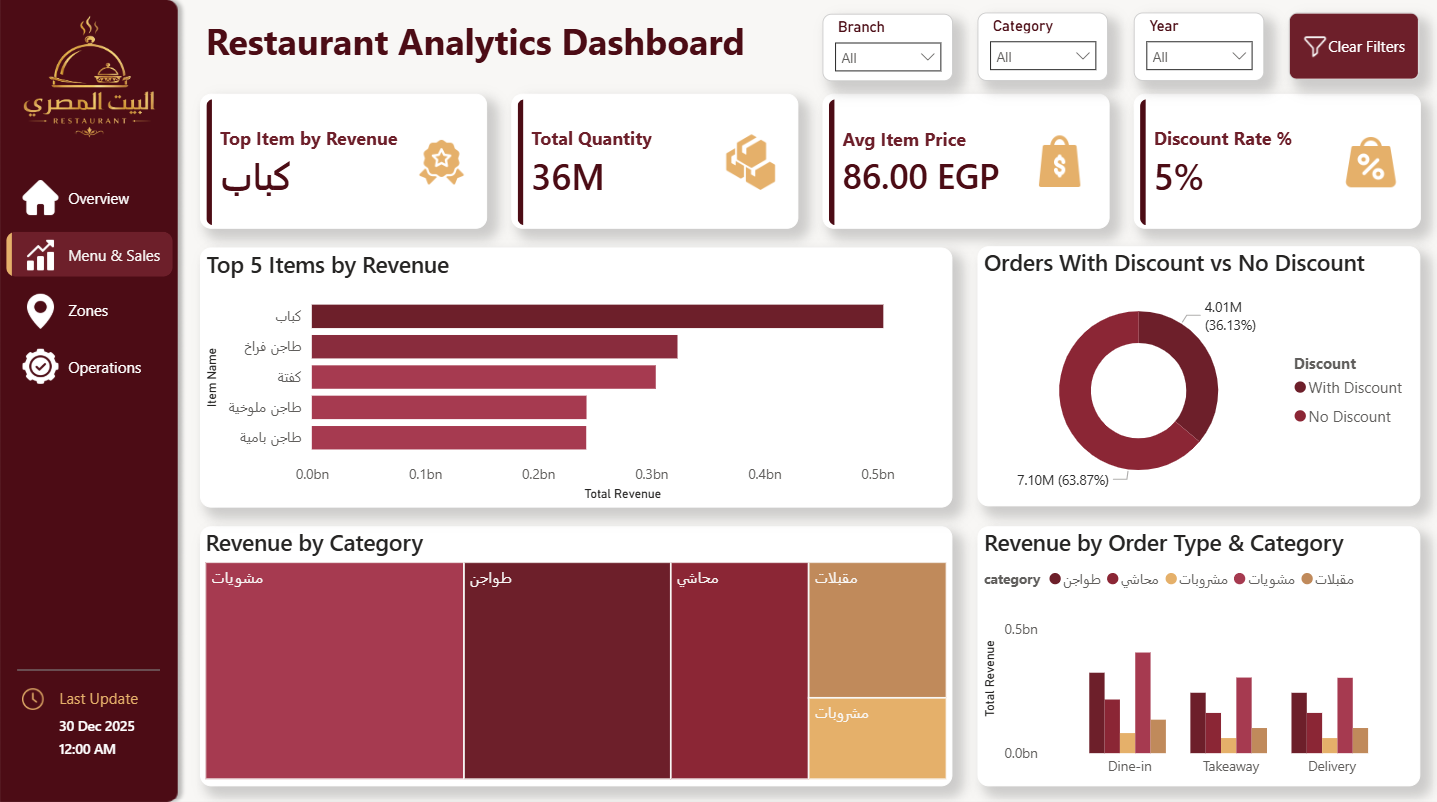

The page's visual inventory and layout, read from the dashboard file:
{"tool":"powerbi","page":{"name":"Menu & Sales","canvas":[1280,720],"ordinal":1},"visuals":[{"type":"image","box":[9.1,11.8,140.9,120.9],"z":0},{"type":"cardVisual","fields":{"Data":["Page2_Measures.Top Item by Revenue"]},"box":[177.5,83.8,255,120],"z":1000},{"type":"cardVisual","fields":{"Data":["Measures_Table.Total Quantity"]},"box":[454.2,83.5,255,120],"z":2000},{"type":"pageNavigator","box":[5.9,155.9,148.2,190],"z":3000},{"type":"image","box":[20.5,159.5,31.9,31.4],"z":4000},{"type":"image","box":[20.5,211,31.9,31.4],"z":5000},{"type":"image","box":[20.5,261,31.9,31.4],"z":6000},{"type":"image","box":[20.5,310.5,31.9,31.4],"z":7000},{"type":"textbox","box":[177.5,11.2,1085,60],"z":8000},{"type":"cardVisual","fields":{"Data":["Page2_Measures.Avg Item Price"]},"box":[730.8,83.5,255,120],"z":9000},{"type":"cardVisual","fields":{"Data":["Measures_Table.Discount Rate %"]},"box":[1007.5,83.8,255,120],"z":10000},{"type":"treemap","title":"Revenue by Category","fields":{"Values":["Measures_Table.Total Revenue"],"Group":["restaurant_final.category"]},"box":[177.5,467.5,668.8,231.2],"z":11000},{"type":"donutChart","title":"Orders With Discount vs No Discount","fields":{"Y":["Page2_Measures.Orders With Discount","Page2_Measures.Orders Without Discount"]},"box":[868.9,218.9,393.3,231.1],"z":12000},{"type":"clusteredColumnChart","title":"Revenue by Order Type & Category","fields":{"Category":["restaurant_final.order_type"],"Y":["Measures_Table.Total Revenue"],"Series":["restaurant_final.category"]},"box":[868.9,467.8,393.3,231.1],"z":13000},{"type":"clusteredBarChart","title":"Top 5 Items by Revenue","fields":{"Y":["Measures_Table.Total Revenue"],"Category":["restaurant_final.item_name"]},"box":[177.5,220,668.8,231.2],"z":14000},{"type":"shape","box":[15.6,583.3,126.7,24.4],"z":15000},{"type":"actionButton","box":[15.5,608.2,28.2,27.3],"z":16000},{"type":"slicer","fields":{"Values":["restaurant_final.branch"]},"box":[731,12,116,60],"z":17000},{"type":"slicer","fields":{"Values":["restaurant_final.category"]},"box":[869.2,10.9,116.2,60.5],"z":18000},{"type":"slicer","fields":{"Values":["restaurant_final.Year"]},"box":[1007.6,10.9,116.2,60.5],"z":19000},{"type":"actionButton","box":[1146,11,116,60],"z":20000},{"type":"textbox","box":[48.1,608.1,94.4,27.5],"z":21000},{"type":"cardVisual","fields":{"Data":["Measures_Table.Last Updated"]},"box":[36,622,106,61.3],"z":22000}]}

Visuals, with their boxes in screenshot pixels (x1, y1, x2, y2), scaled from the page's 1280x720 canvas onto the 1437x802 screenshot:
image: bbox=[10, 13, 168, 148]
cardVisual - Page2_Measures.Top Item by Revenue: bbox=[199, 93, 486, 227]
cardVisual - Measures_Table.Total Quantity: bbox=[510, 93, 796, 227]
pageNavigator: bbox=[7, 174, 173, 385]
image: bbox=[23, 178, 59, 213]
image: bbox=[23, 235, 59, 270]
image: bbox=[23, 291, 59, 326]
image: bbox=[23, 346, 59, 381]
textbox: bbox=[199, 12, 1417, 79]
cardVisual - Page2_Measures.Avg Item Price: bbox=[820, 93, 1107, 227]
cardVisual - Measures_Table.Discount Rate %: bbox=[1131, 93, 1417, 227]
"Revenue by Category" treemap: bbox=[199, 521, 950, 778]
"Orders With Discount vs No Discount" donutChart: bbox=[975, 244, 1417, 501]
"Revenue by Order Type & Category" clusteredColumnChart: bbox=[975, 521, 1417, 778]
"Top 5 Items by Revenue" clusteredBarChart: bbox=[199, 245, 950, 503]
shape: bbox=[18, 650, 160, 677]
actionButton: bbox=[17, 677, 49, 708]
slicer - restaurant_final.branch: bbox=[821, 13, 951, 80]
slicer - restaurant_final.category: bbox=[976, 12, 1106, 80]
slicer - restaurant_final.Year: bbox=[1131, 12, 1262, 80]
actionButton: bbox=[1287, 12, 1417, 79]
textbox: bbox=[54, 677, 160, 708]
cardVisual - Measures_Table.Last Updated: bbox=[40, 693, 159, 761]
